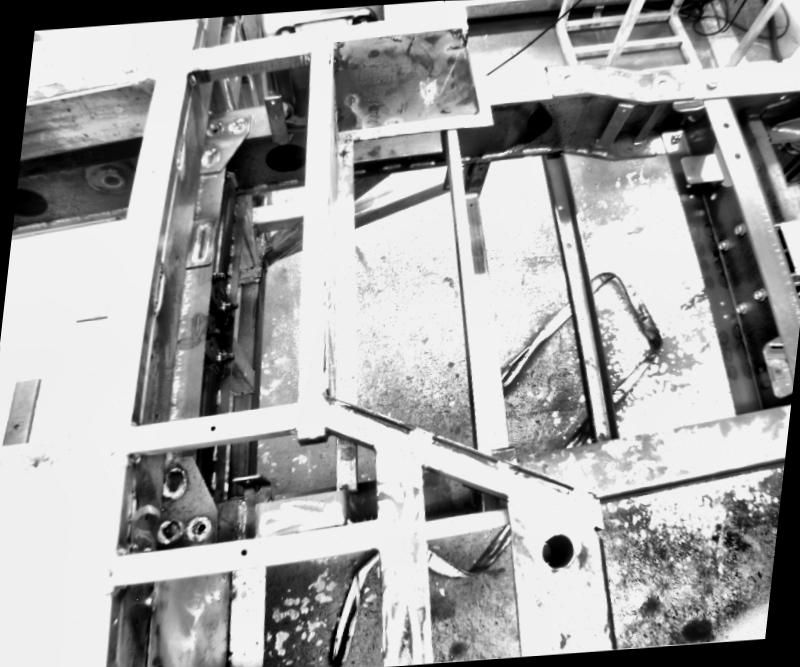bolt: (203, 324, 222, 340), (210, 267, 225, 283), (703, 74, 718, 88), (217, 350, 234, 362), (221, 295, 235, 309), (714, 238, 730, 250), (669, 127, 681, 142), (752, 285, 765, 298), (734, 300, 748, 312), (732, 222, 746, 234)
bracket: (223, 467, 282, 541), (0, 373, 42, 447), (256, 89, 298, 146), (676, 140, 728, 186), (595, 95, 634, 150)
hole: (752, 329, 797, 402), (534, 528, 577, 570), (14, 180, 58, 216), (97, 169, 122, 191), (237, 546, 250, 558), (584, 353, 594, 365), (268, 96, 276, 106), (195, 522, 205, 530), (11, 420, 19, 428), (732, 150, 740, 158), (206, 422, 215, 429), (721, 119, 730, 125), (562, 242, 571, 248), (555, 202, 562, 209), (720, 312, 728, 318), (719, 299, 723, 304), (689, 165, 693, 170), (620, 107, 625, 110), (468, 202, 472, 204)
